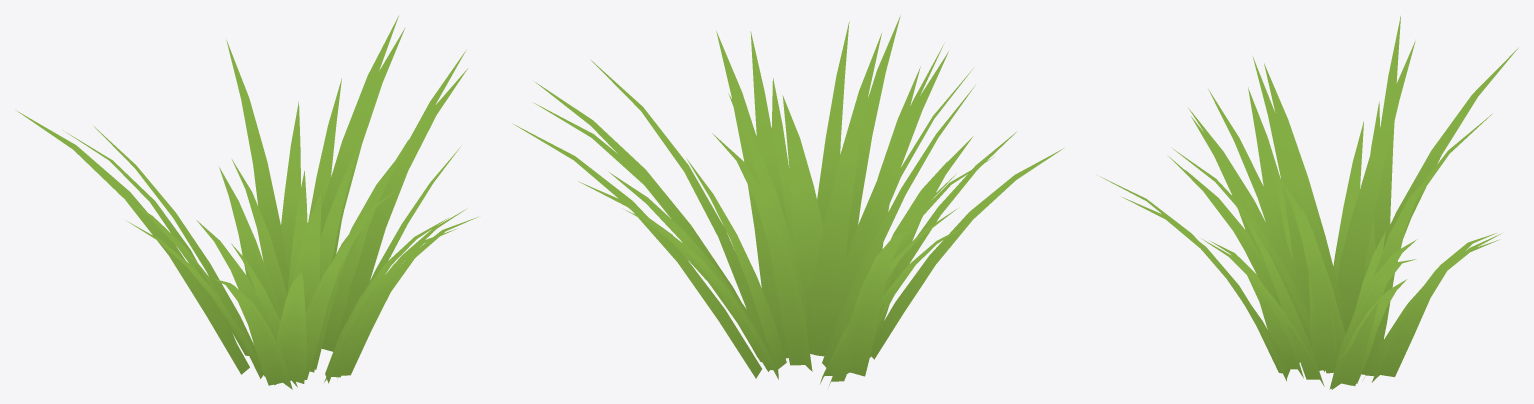
The model's file is grass_tuft1_s7950.gltf.
3 renders of one model, left to right at view 1: azimuth 30°, elevation 25°; view 2: azimuth 150°, elevation 25°; view 3: azimuth 270°, elevation 25°, orthographic. The views are drawn at different scales.
Visible parts, largest first — view 1: grass_tuft1_s7950_blade_LOD0; view 2: grass_tuft1_s7950_blade_LOD0; view 3: grass_tuft1_s7950_blade_LOD0.
Part boxes in pixels (x1,y1,x2,y2): grass_tuft1_s7950_blade_LOD0: [16, 16, 478, 389]; grass_tuft1_s7950_blade_LOD0: [512, 15, 1063, 385]; grass_tuft1_s7950_blade_LOD0: [1097, 16, 1518, 389].
Size of what is drawn, in the model's own units: 0.5459 by 0.3463 by 0.4902.
